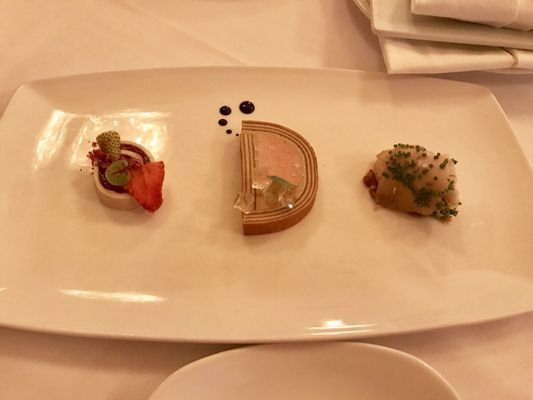sushi: (233, 119, 319, 236)
